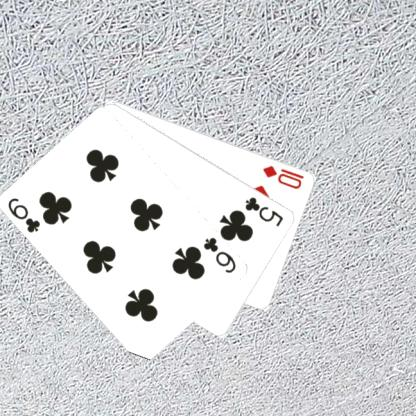10D: (260, 162, 306, 190)
5C: (242, 193, 285, 228)
6C: (201, 234, 238, 274), (6, 194, 42, 235)
